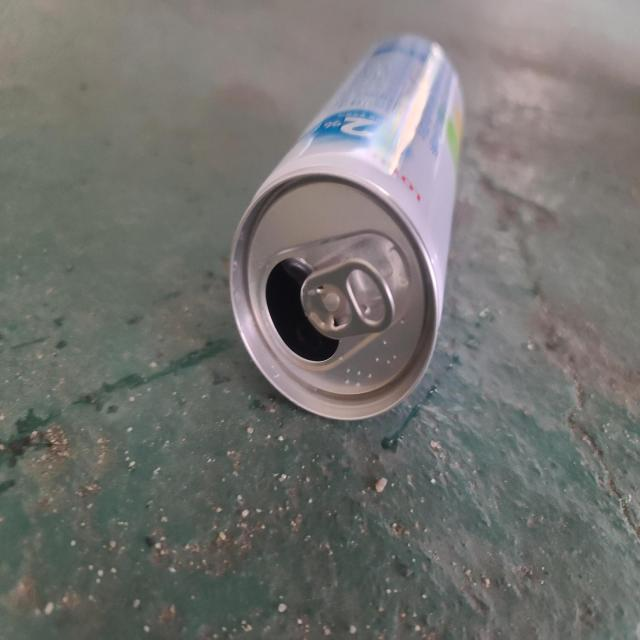can: (230, 33, 464, 420)
